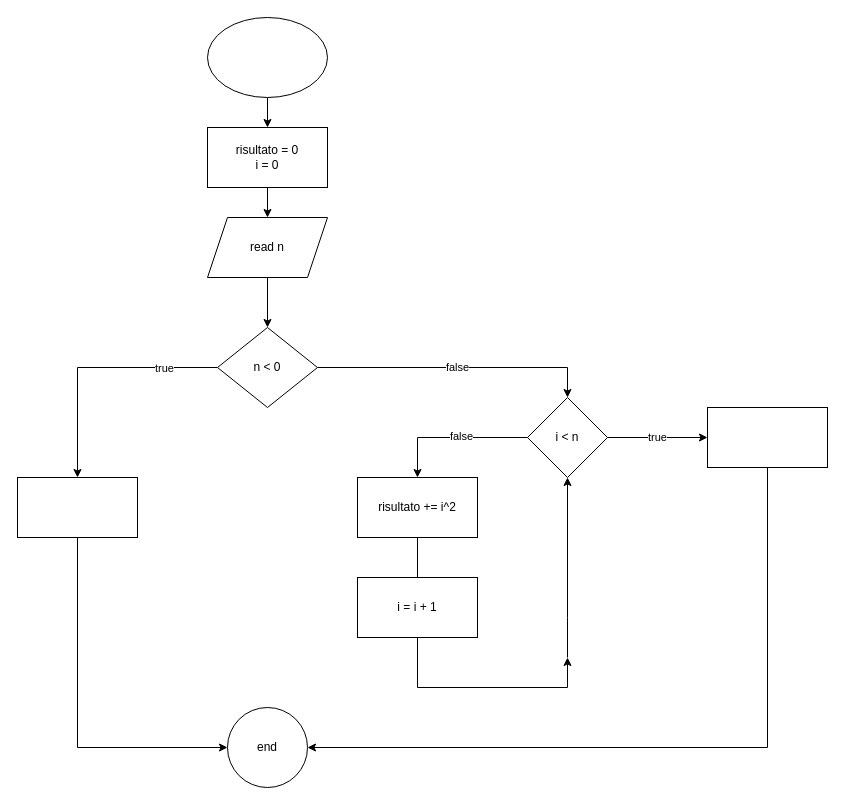
The diagram is 845 pixels wide and 805 high, and some of its shapes have lost their labels. The centre of each missing label's shape, as x and y in pixels:
start: (x=267, y=57)
write "Errore: numero negativo": (x=77, y=507)
write risultato: (x=767, y=437)
